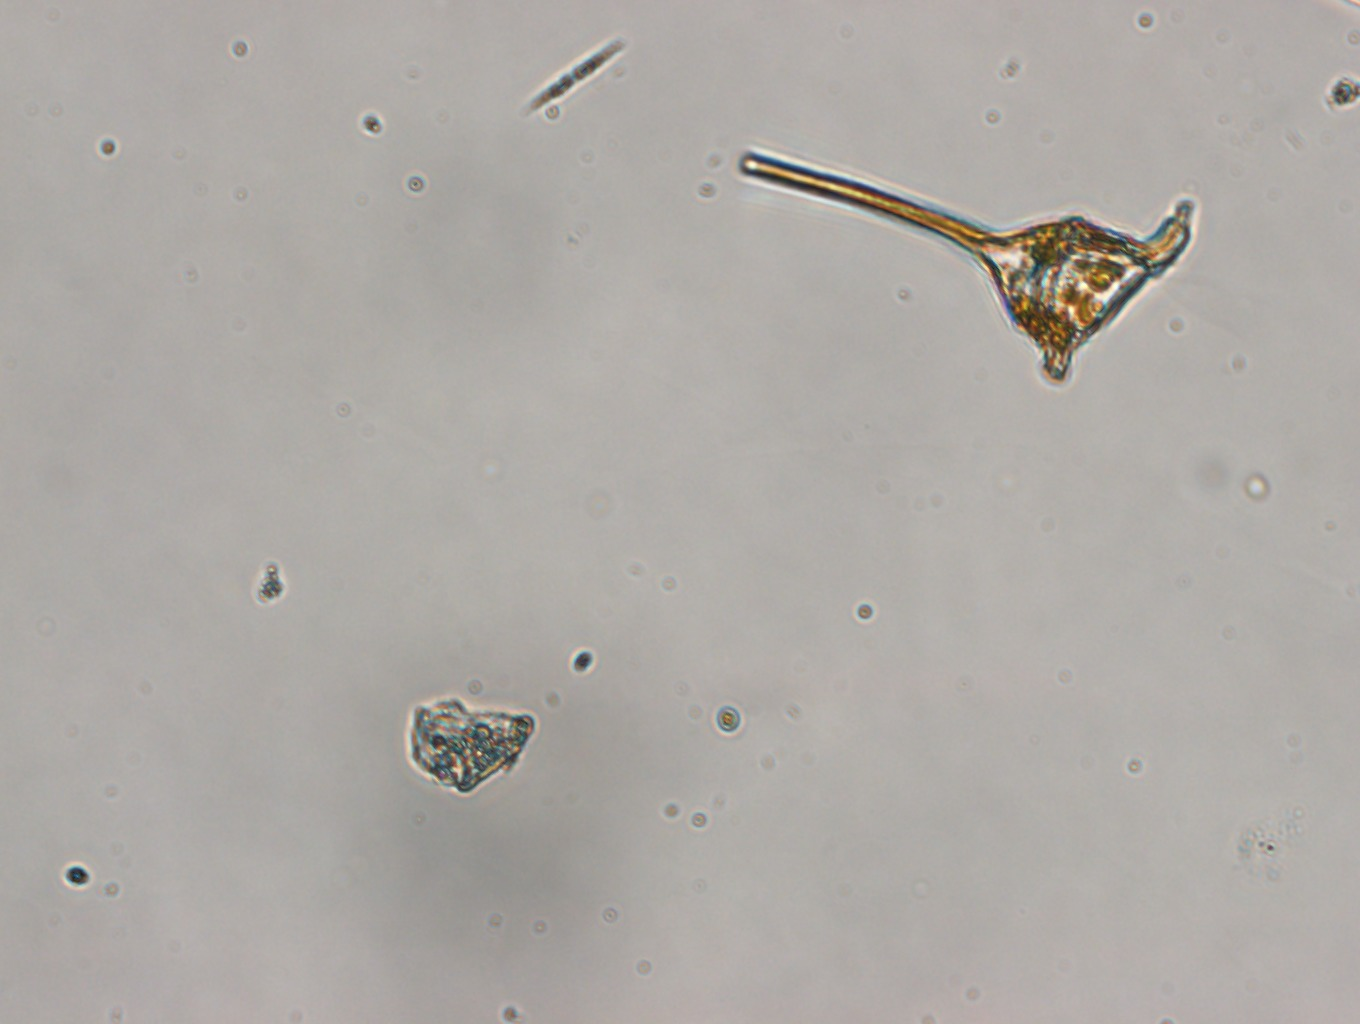ceratium trichoceros: (732, 145, 1197, 385)
